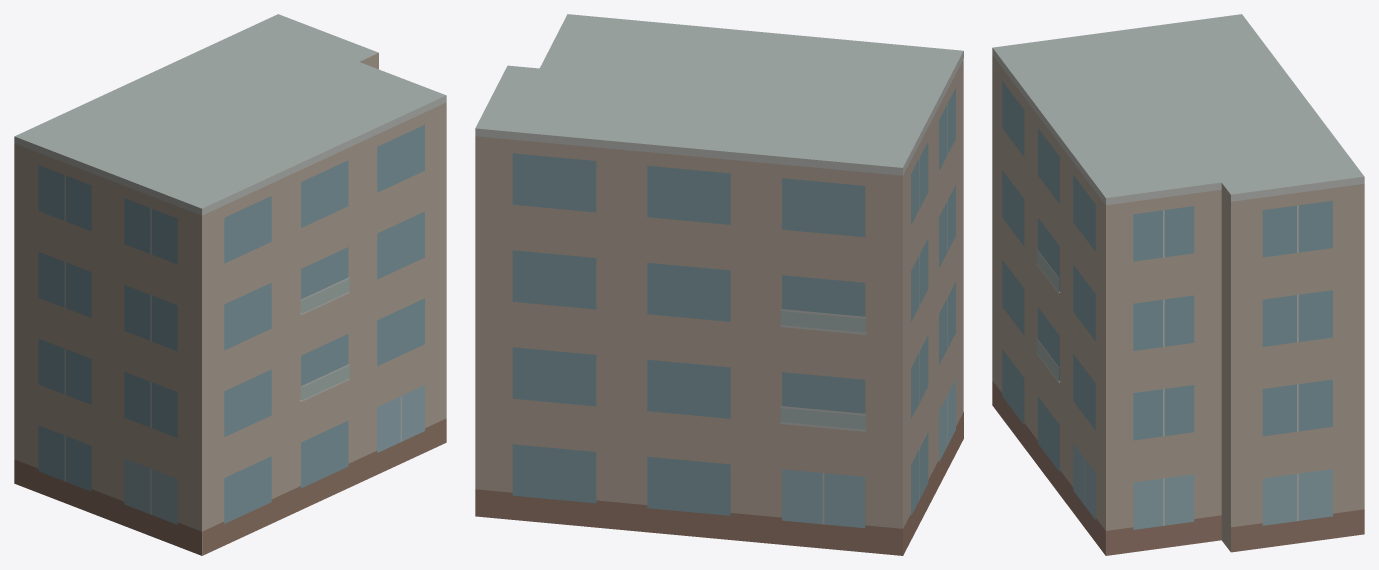
File: residential-a36c98e2-8089-42cb-8e75-93df6fc01a6e.glb
3 renders of one model, left to right at view 1: azimuth 30°, elevation 25°; view 2: azimuth 150°, elevation 25°; view 3: azimuth 270°, elevation 25°, orthographic. The views are drawn at different scales.
Parts seen in each view (by area): view 1: residential-a36c98e2-8089-42cb-8e75-93df6fc01a6e.tmp; view 2: residential-a36c98e2-8089-42cb-8e75-93df6fc01a6e.tmp; view 3: residential-a36c98e2-8089-42cb-8e75-93df6fc01a6e.tmp.
Part boxes in pixels (left/top/right/bottom): residential-a36c98e2-8089-42cb-8e75-93df6fc01a6e.tmp: left=14, top=14, right=446, bottom=555; residential-a36c98e2-8089-42cb-8e75-93df6fc01a6e.tmp: left=475, top=14, right=963, bottom=555; residential-a36c98e2-8089-42cb-8e75-93df6fc01a6e.tmp: left=992, top=14, right=1364, bottom=555.
Size of the model in its own units: 13.48 by 12.2 by 11.51.
